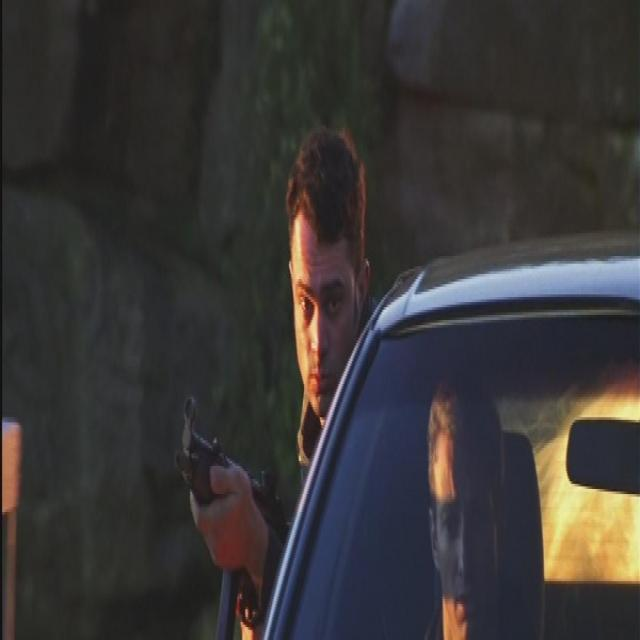rifle: (176, 392, 288, 535)
